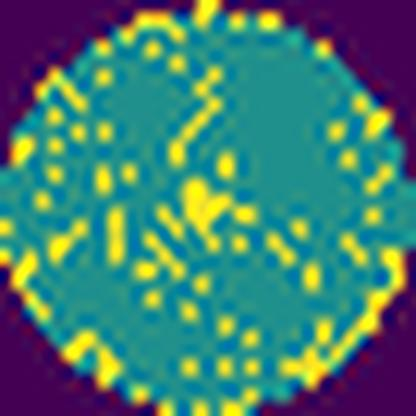Center: (158, 171, 248, 249)
